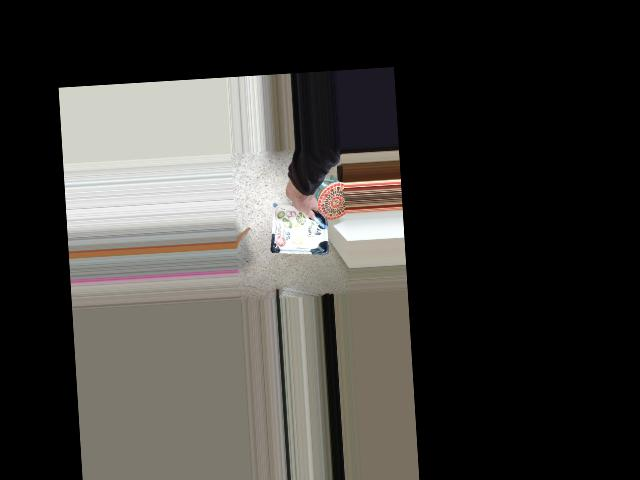cheese: (267, 182, 328, 245)
